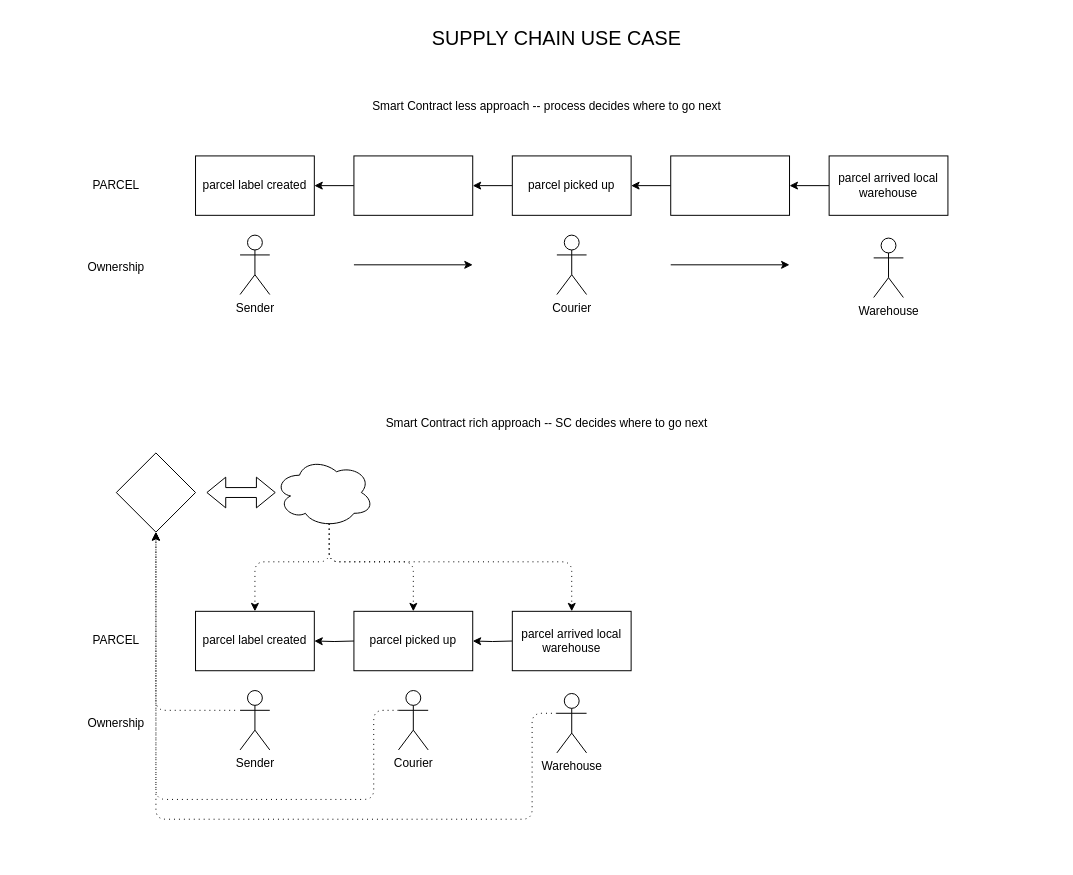
Image size: 1073x875. Some labels were removed from this diagram. Here are the shapes that lost their labels. From the top down, the centre of each, then its label:
At (x=413, y=185): "intermediate block required to change ownership to Courier".
At (x=730, y=185): "intermediate block required to change ownership to warehouse".
At (x=155, y=492): "SC".
At (x=324, y=492): "Execution environment".
